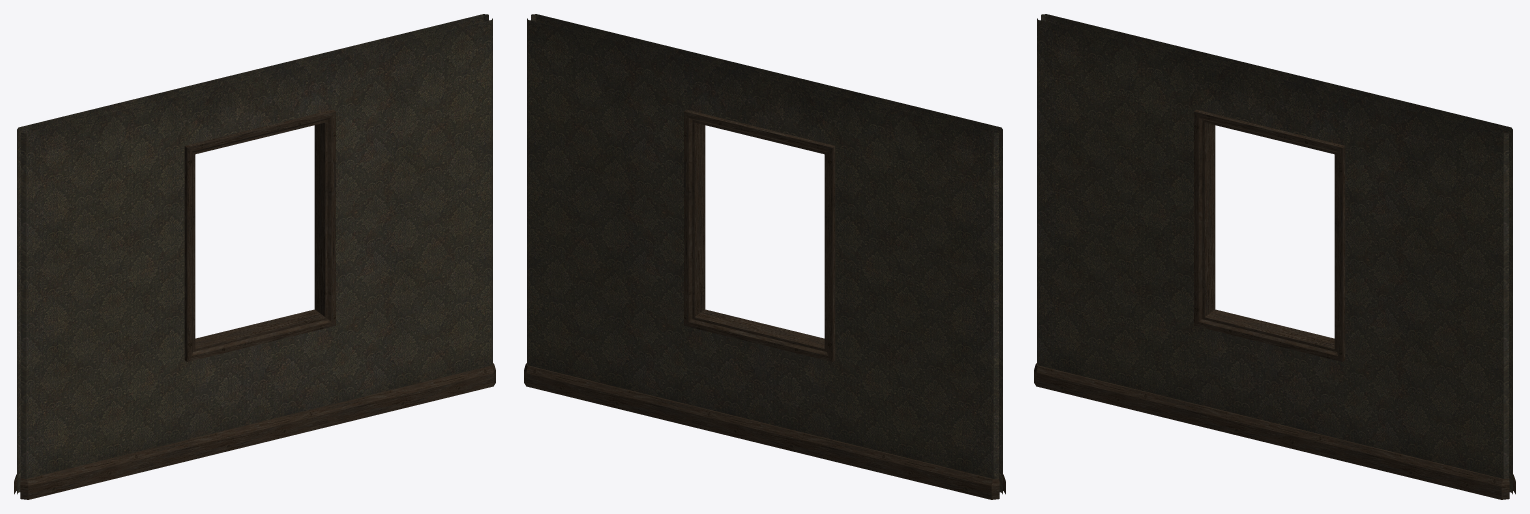
File: window_2_1_single_frame_only.obj
3 views of the same model, side by side, from view 1: azimuth 30°, elevation 25°; view 2: azimuth 150°, elevation 25°; view 3: azimuth 330°, elevation 25° (orthographic).
Visible parts, largest first — view 1: window_2_1_single_frame_only; view 2: window_2_1_single_frame_only; view 3: window_2_1_single_frame_only.
Boxes of the visible parts, box(x1,y1,x2,y2) form: window_2_1_single_frame_only: box(14, 14, 495, 499); window_2_1_single_frame_only: box(524, 14, 1005, 499); window_2_1_single_frame_only: box(1034, 14, 1515, 499).
Bounding box in the file's own units: 4.09 × 3 × 0.2.
